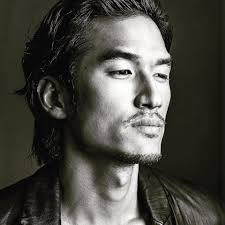asian_male: (44, 1, 185, 177)
